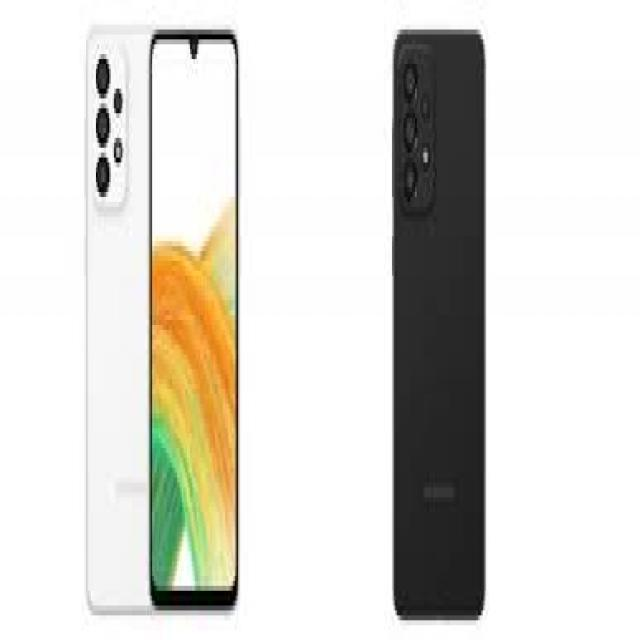phone: (387, 20, 485, 616)
